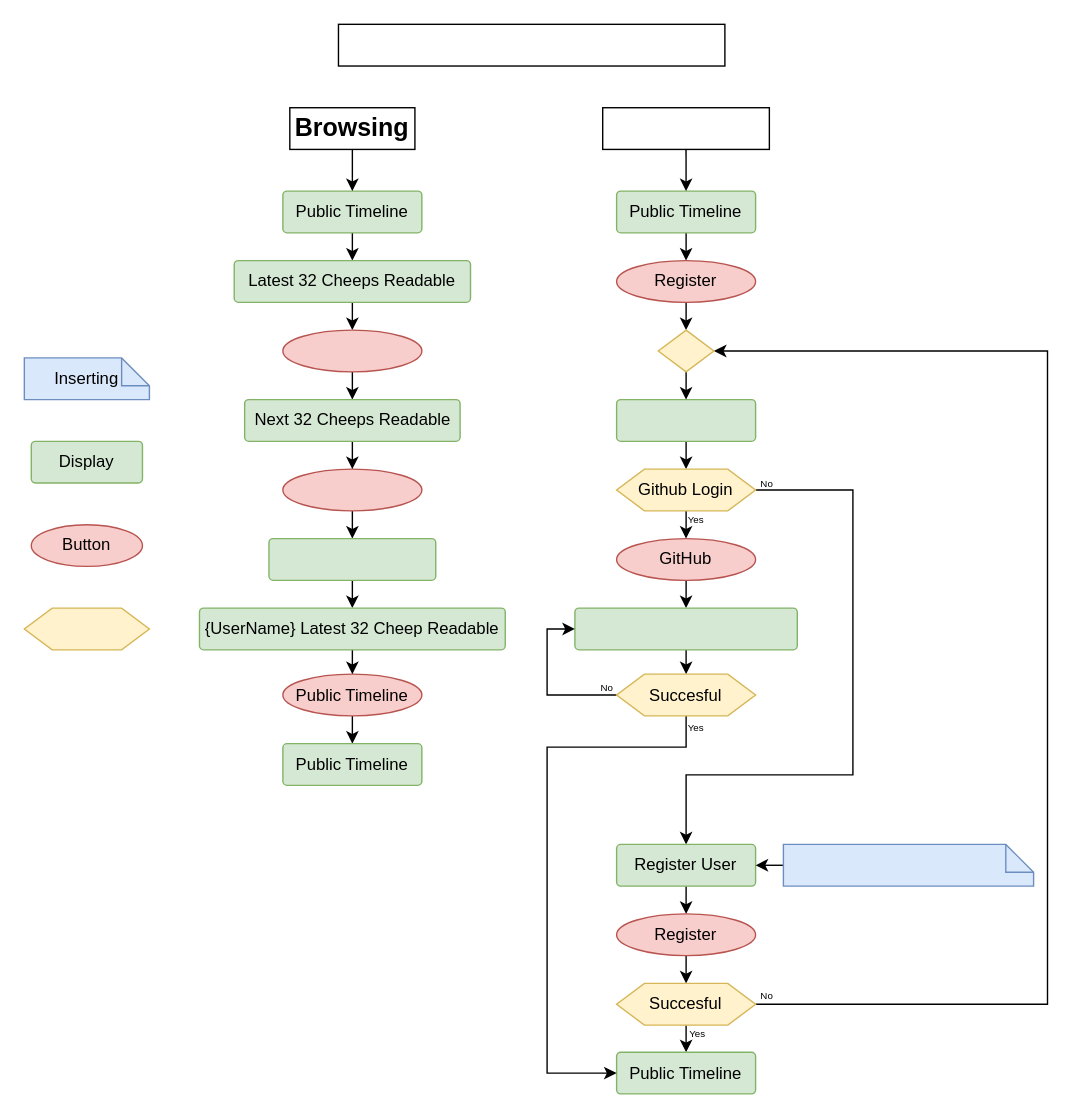
This 1084x1119 diagram has some shape labels left out. Each missing label, with the centre of its shape:
"Condition" goes at (86,628).
"GitHub Login Page" goes at (685,628).
"Next" goes at (351,350).
"Register Page" goes at (685,419).
"Registration" goes at (685,127).
"Unauthorized Journey" goes at (531,44).
"UserName, Email, Password" goes at (908,864).
"{UserName}" goes at (351,489).
"{UserName} Timeline" goes at (352,558).
